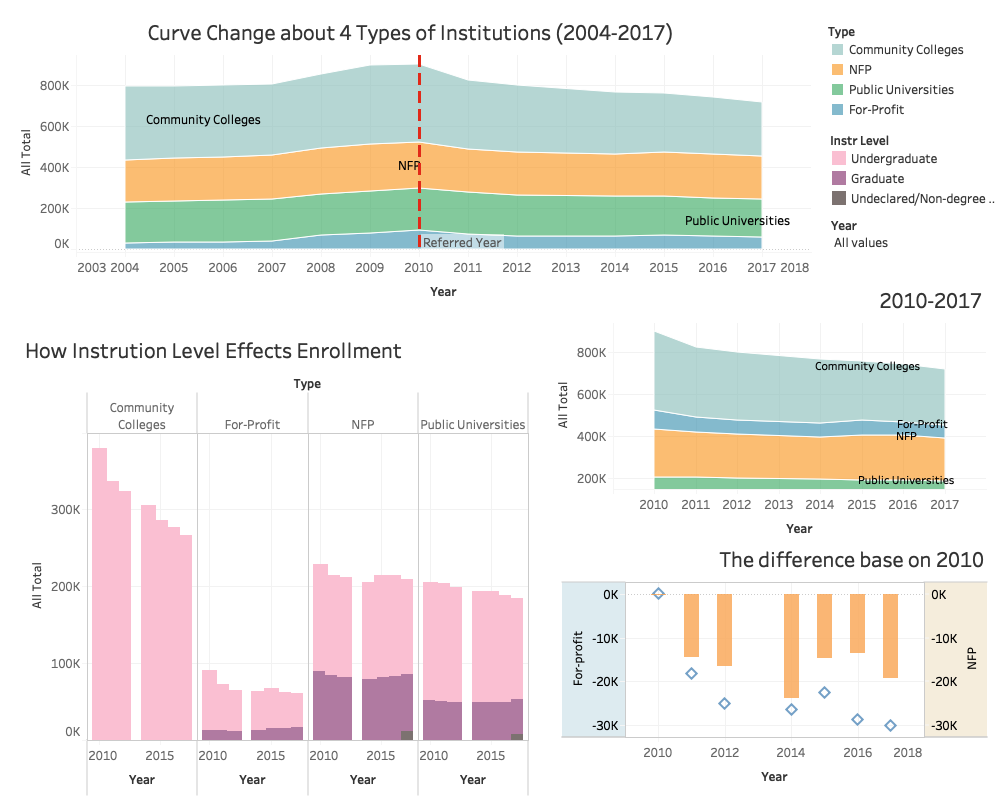

This screenshot's page, from the dashboard's own definition file:
{"tool":"tableau","page":{"name":"Dashboard 1","canvas":[1000,1000],"units":"permille","ordinal":0},"visuals":[{"type":"worksheet","title":"Sheet 1","mark":"Area","rows":["AllTotal"],"cols":["Year"],"box":[442.3,29.5,549.6,447.7]},{"type":"text","box":[13.1,50.9,431.6,48.3]},{"type":"image","param":"/Users/Yilia/Python/csci627-project02-Yilia59/logo.png","box":[141.7,76.4,306.3,127.4]},{"type":"text","box":[13.9,80.4,81.9,44.2]},{"type":"worksheet","title":"Sheet 5","mark":"Bar","rows":["Calculation_1312517869978537987","Calculation_1312517869981421574","Calculation_1312517869970886656","Calculation_1312517869971095553"],"cols":["Year"],"box":[13.1,218.5,418.5,773.5]},{"type":"legend","title":"Sheet 5","param":"[federated.1nt31td12r45vc1eib2vi05w9cpl].[max:Calculation_1312517869978537987:qk","box":[296.5,221.2,132.7,67]},{"type":"text","box":[188.4,277.5,32.8,674.3]},{"type":"worksheet","title":"Sheet 6","mark":"Bar","rows":["AllTotal"],"cols":["Type","Year"],"box":[443.9,494.6,556.1,430.3]},{"type":"worksheet","title":"Sheet 3","mark":"GanttBar","box":[498.8,563,501.2,131.4]},{"type":"text","box":[799.3,631.4,9,246.7]},{"type":"text","box":[549.6,646.1,9.8,244]},{"type":"text","box":[919.7,654.2,18,223.9]},{"type":"text","box":[673.2,662.2,10.7,215.8]},{"type":"worksheet","title":"Sheet 7","mark":"Bar","cols":["Calculation_1312517869978537987","Calculation_1312517869981421574","Calculation_1312517869970886656","Calculation_1312517869971095553"],"box":[497.9,883.4,502.9,101.9]}]}

Visuals, with their boxes on the dashboard's canvas, which has no fixed pixel size, in thousandths of its width and height (x1, y1, x2, y2). These are canvas units, not pixel positions in the 1000x800 screenshot, which may show the page scaled, cropped or inside an application window:
"Sheet 1" worksheet (Area marks): 442,30,992,477
text: 13,51,445,99
image: 142,76,448,204
text: 14,80,96,125
"Sheet 5" worksheet (Bar marks): 13,218,432,992
"Sheet 5" legend: 296,221,429,288
text: 188,278,221,952
"Sheet 6" worksheet (Bar marks): 444,495,1000,925
"Sheet 3" worksheet (GanttBar marks): 499,563,1000,694
text: 799,631,808,878
text: 550,646,559,890
text: 920,654,938,878
text: 673,662,684,878
"Sheet 7" worksheet (Bar marks): 498,883,1001,985
